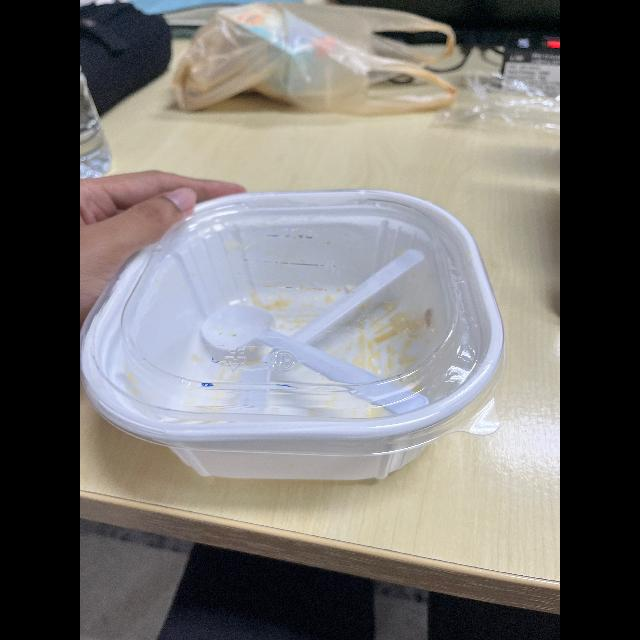plastic_box: (89, 177, 504, 488)
